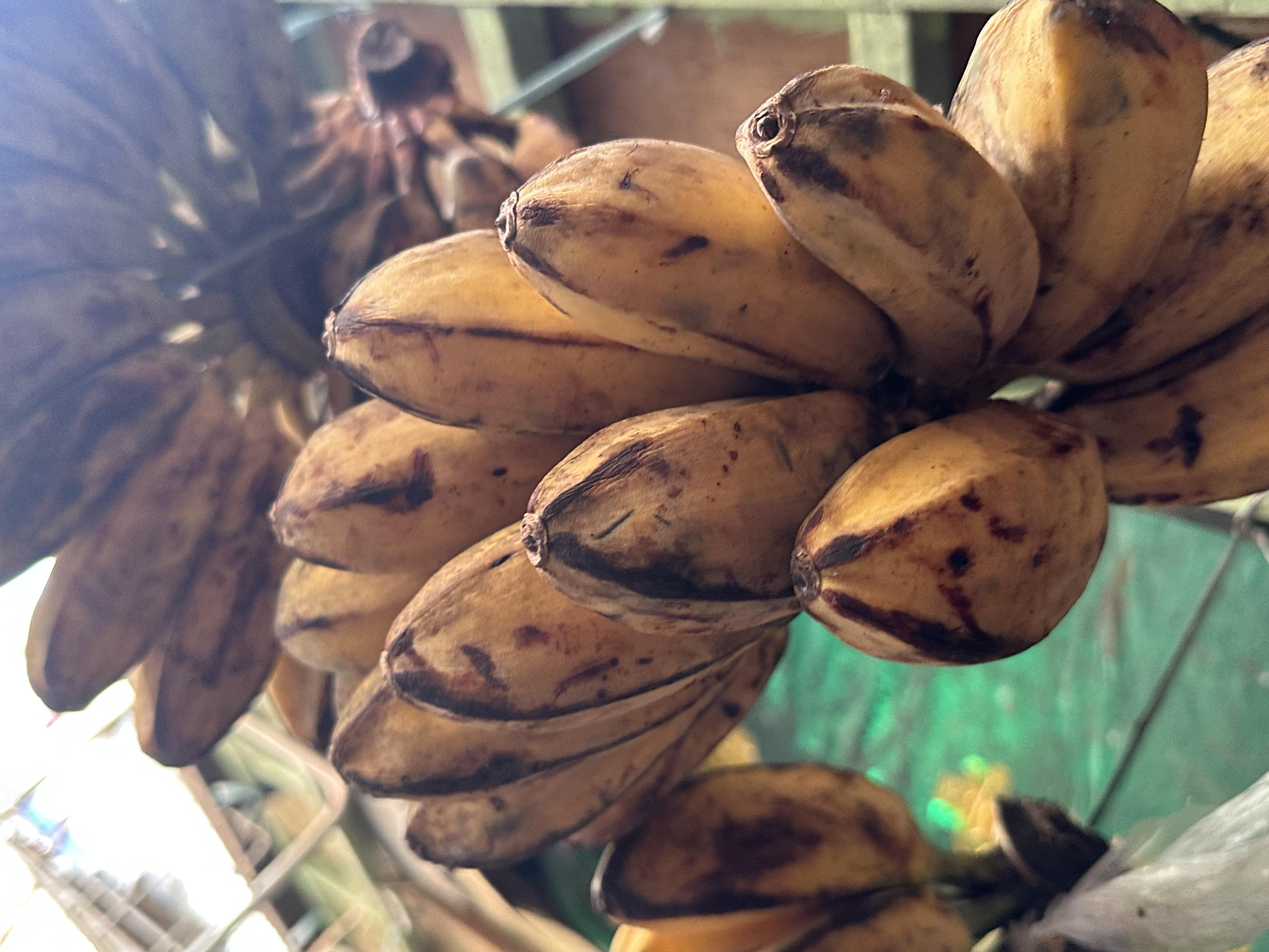ripe: (269, 0, 1269, 864), (0, 176, 326, 766), (593, 763, 973, 952)
